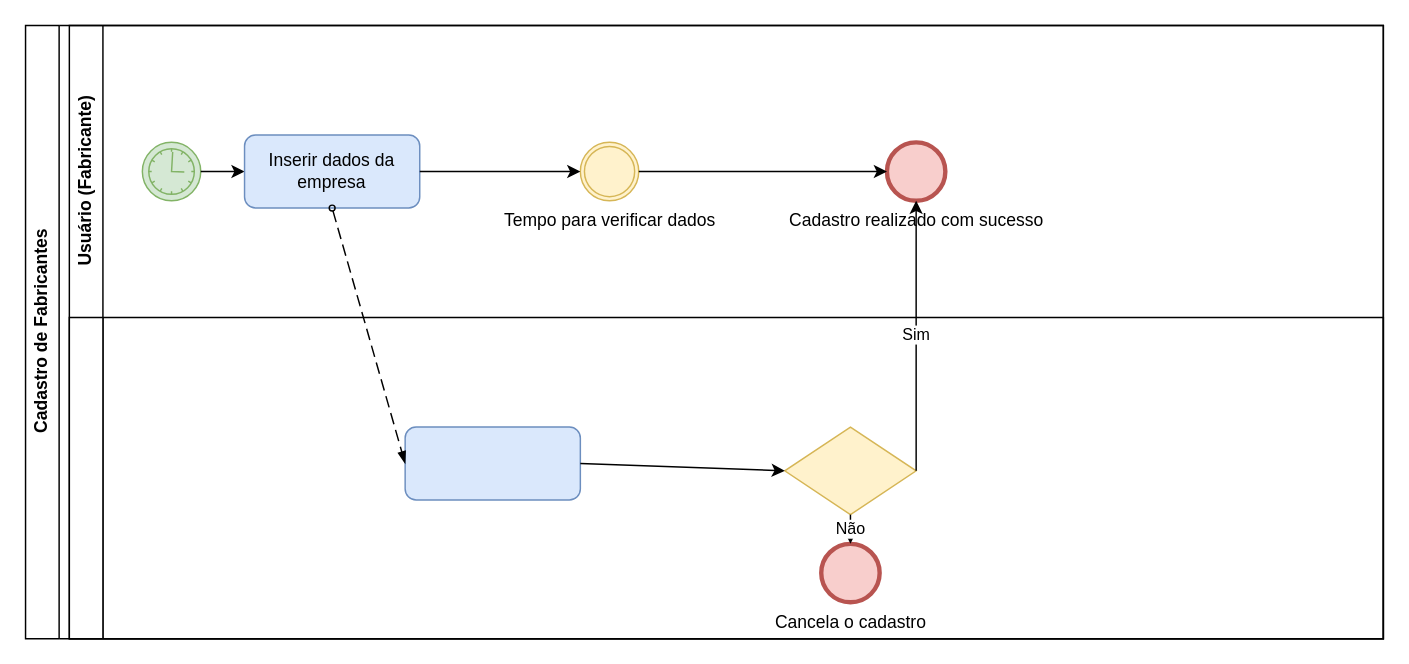
Image size: 1409x664. Some labels were removed from this diagram. The box of each missing label's shape, as (x1, y1, x2, y2) in pixels:
Dados são válidos?: (783, 426, 916, 515)
Site: (68, 316, 1383, 639)
Validar informações fornecidas pelo usuário: (404, 426, 580, 500)
